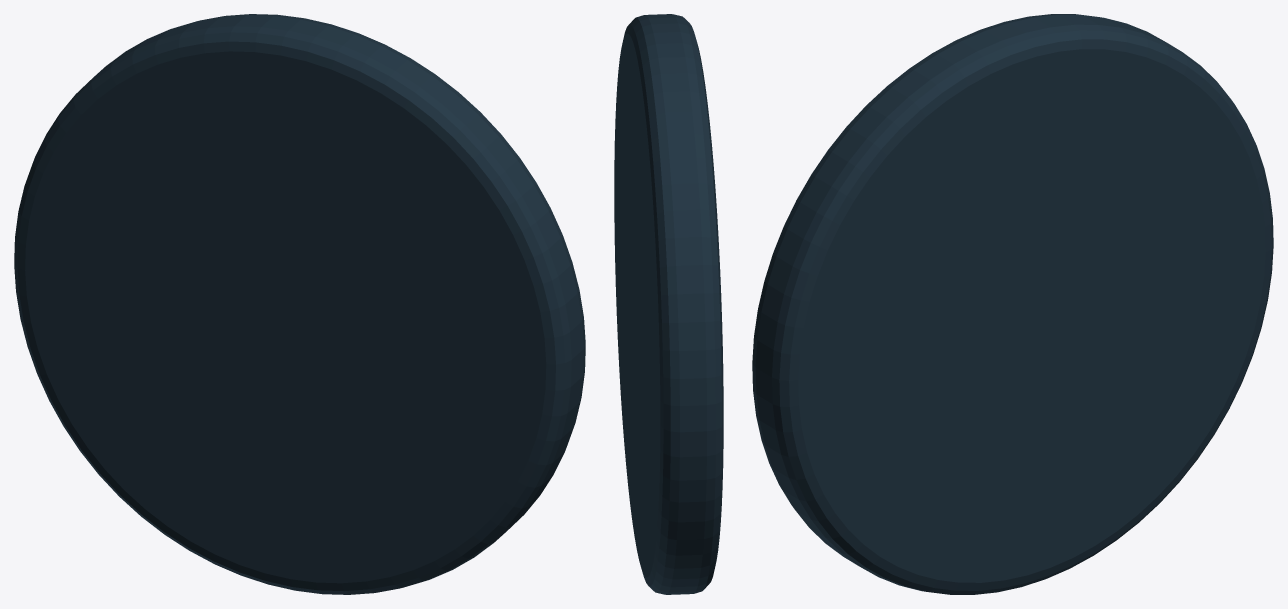
File: SM_HC_BeatSpeaker_21.fbx
3 renders of one model, left to right at view 1: azimuth 30°, elevation 25°; view 2: azimuth 150°, elevation 25°; view 3: azimuth 270°, elevation 25°, orthographic. The views are drawn at different scales.
Visible parts, largest first — view 1: SM_HC_BeatSpeaker_21; view 2: SM_HC_BeatSpeaker_21; view 3: SM_HC_BeatSpeaker_21.
Part boxes in pixels (x1,y1,x2,y2): SM_HC_BeatSpeaker_21: (14,14,585,594); SM_HC_BeatSpeaker_21: (614,14,723,594); SM_HC_BeatSpeaker_21: (752,14,1273,594).
Size of the model in its own units: 81.47 by 110 by 128.
